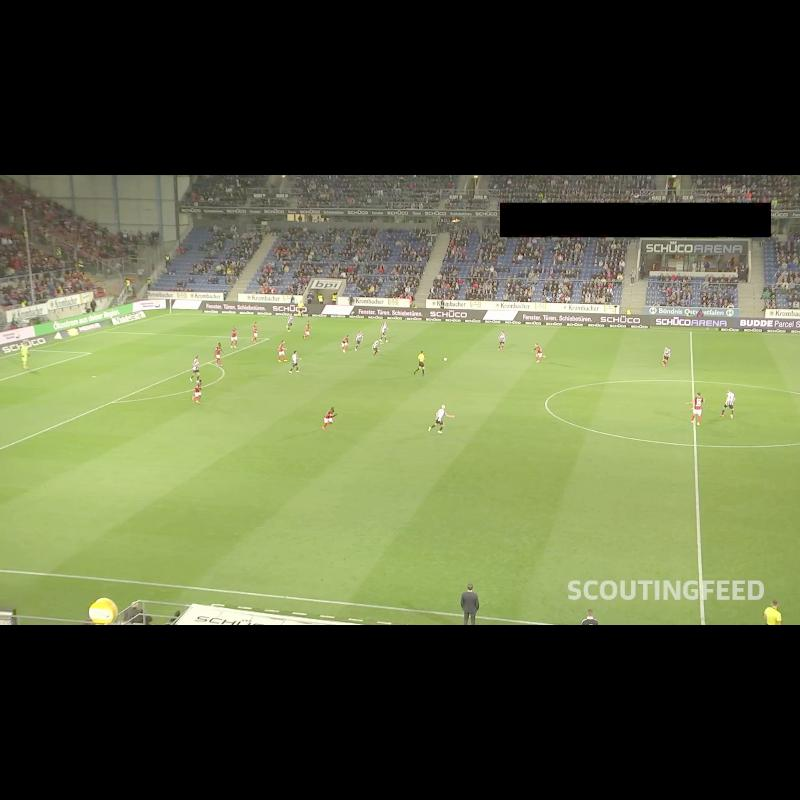cross_recipient_zone: (0, 331, 268, 449)
crossing_player_zone: (0, 450, 146, 550), (104, 313, 403, 344)
pitch: (0, 313, 800, 625)
